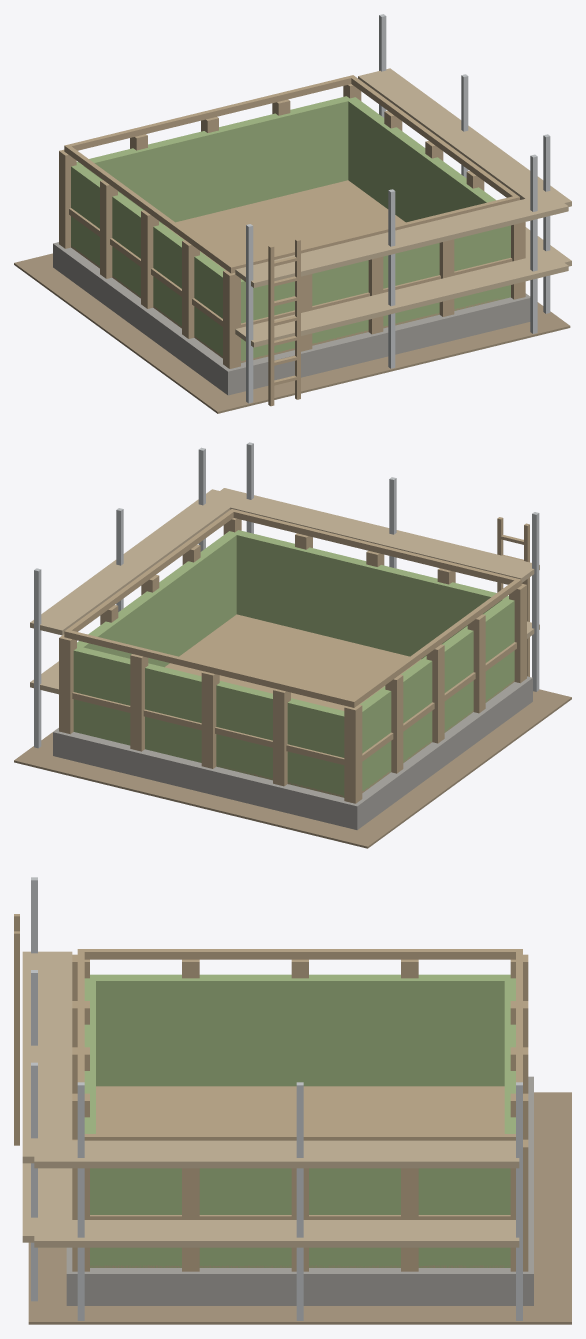
Rendered from orchard_site_7.glb.
The picture shows the model from 3 angles, top to bottom: view 1: azimuth 30°, elevation 25°; view 2: azimuth 150°, elevation 25°; view 3: azimuth 270°, elevation 25°; orthographic projection. The views are drawn at different scales.
Visible parts, largest first — view 1: body; view 2: body; view 3: body.
Boxes of the visible parts, x1,y1,x2,y2 form: body: (14,14,571,413); body: (14,442,571,848); body: (14,877,571,1324).
Bounding box in the file's own units: 1.88 × 0.9 × 1.91.
